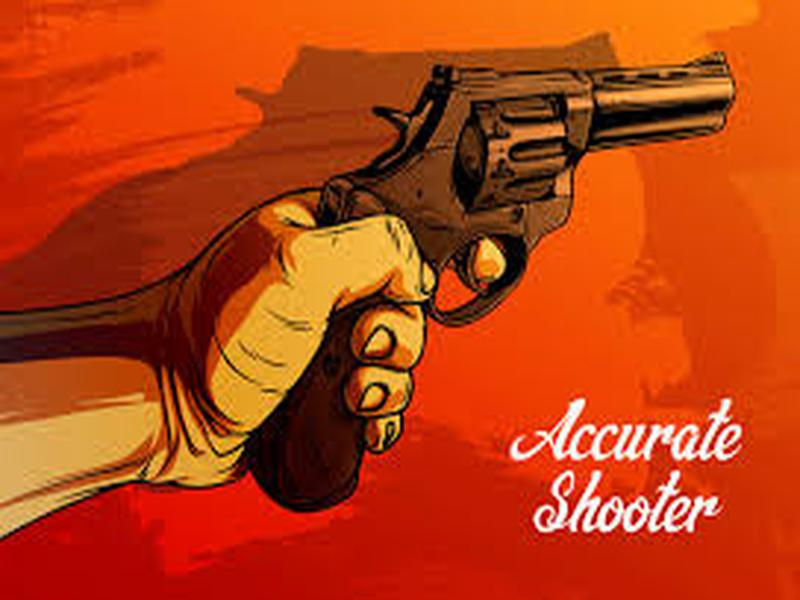gun: (107, 48, 771, 512)
